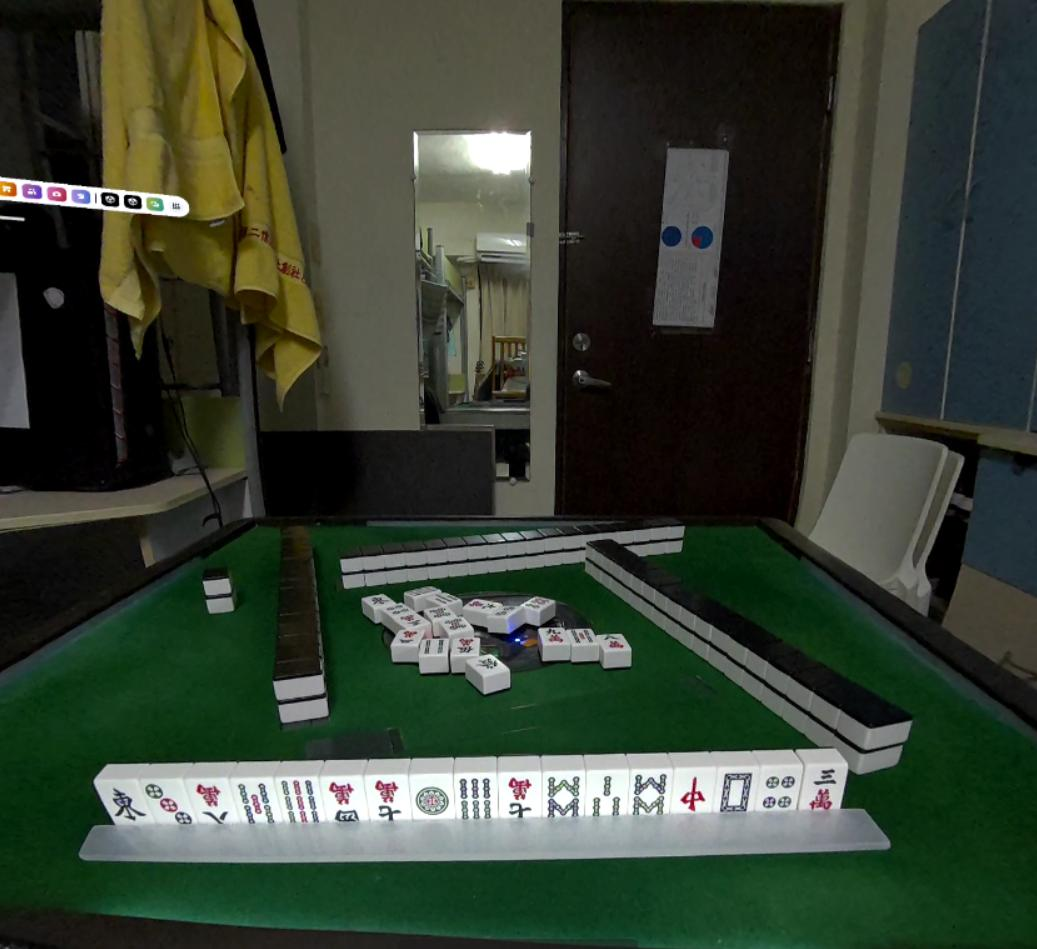mahjong: (226, 777, 281, 830), (91, 782, 151, 830), (759, 763, 805, 819), (319, 780, 369, 830), (277, 775, 324, 828), (141, 780, 192, 828), (184, 776, 232, 824), (583, 775, 626, 827), (501, 770, 543, 822), (409, 775, 457, 819), (457, 775, 499, 825), (367, 777, 409, 824), (804, 765, 845, 813), (631, 770, 667, 824), (717, 770, 753, 819), (676, 766, 711, 816), (546, 775, 581, 819)
